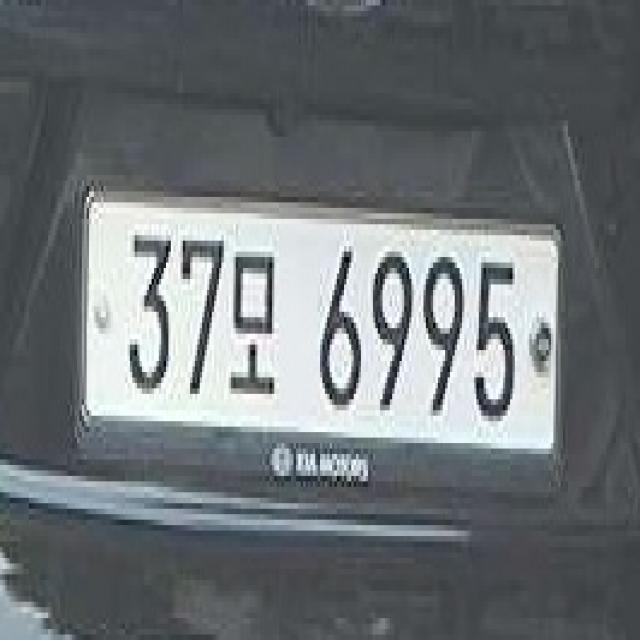3: (130, 230, 176, 399)
5: (471, 257, 515, 421)
6: (315, 246, 363, 416)
7: (178, 230, 224, 394)
9: (421, 246, 464, 416), (373, 240, 411, 416)
license_plate: (74, 180, 560, 470)
mo: (229, 246, 274, 394)
